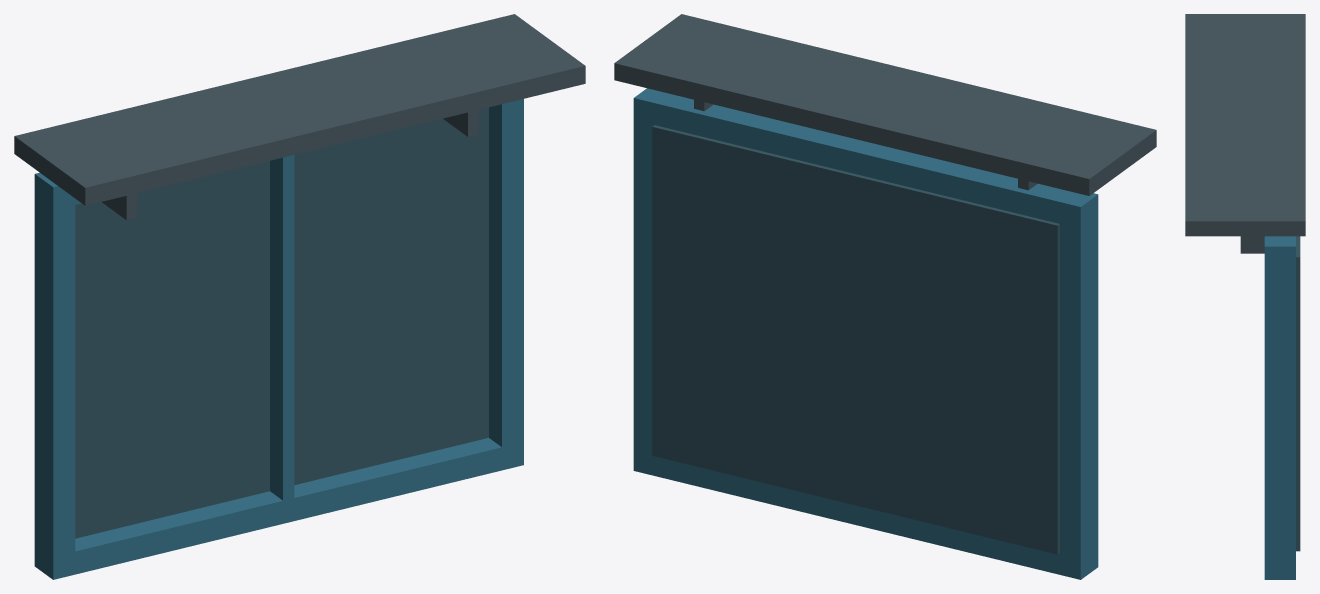
Rendered from window_26.glb.
3 renders of one model, left to right at view 1: azimuth 30°, elevation 25°; view 2: azimuth 150°, elevation 25°; view 3: azimuth 270°, elevation 25°, orthographic. The views are drawn at different scales.
Parts seen in each view (by area): view 1: window_26; view 2: window_26; view 3: window_26.
Part boxes in pixels (x1,y1,x2,y2): window_26: (14, 14, 585, 579); window_26: (614, 14, 1156, 579); window_26: (1185, 14, 1305, 579).
Size of the model in its own units: 2.04 by 1.68 by 0.5.
